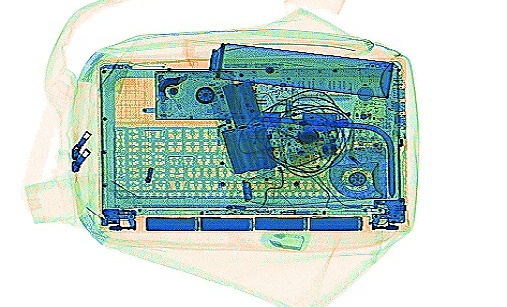powerbank: (211, 76, 278, 175)
pressure: (183, 38, 392, 98)
